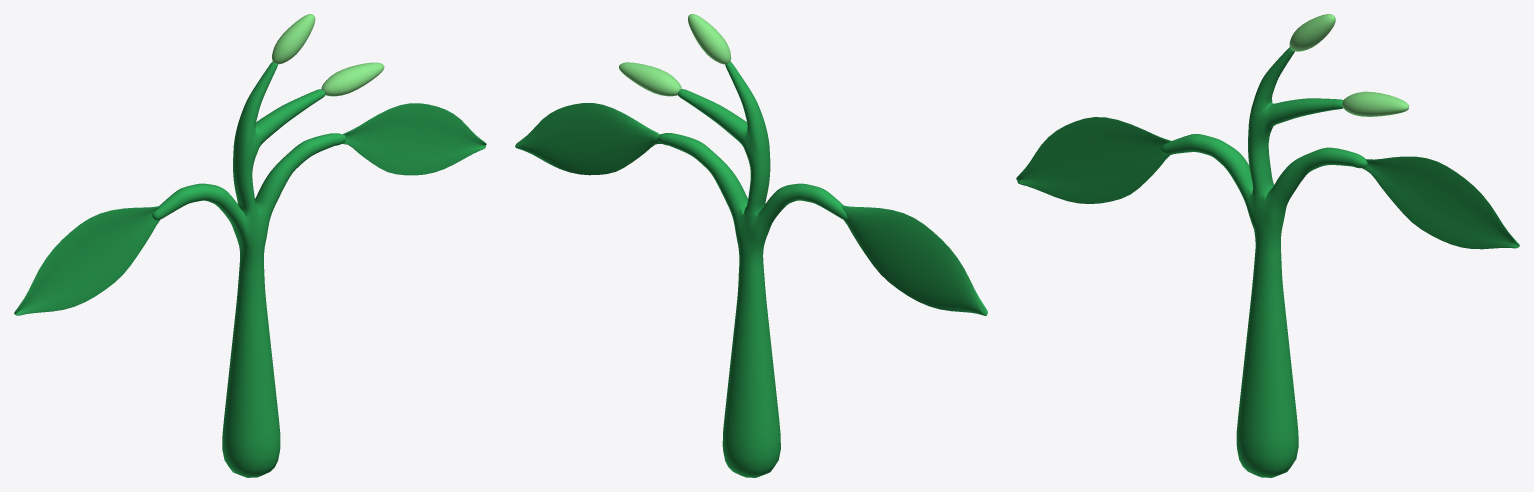
The model's file is Sprute_Phase3.fbx.
The picture shows the model from 3 angles, left to right: view 1: azimuth 30°, elevation 25°; view 2: azimuth 150°, elevation 25°; view 3: azimuth 330°, elevation 25°; orthographic projection. The views are drawn at different scales.
Parts seen in each view (by area): view 1: Sprute_Phase2; view 2: Sprute_Phase2; view 3: Sprute_Phase2.
Boxes of the visible parts, x1,y1,x2,y2 form: Sprute_Phase2: (14,14,486,477); Sprute_Phase2: (515,14,987,477); Sprute_Phase2: (1016,14,1519,477).
Size of the model in its own units: 37.32 by 33.69 by 3.96.
